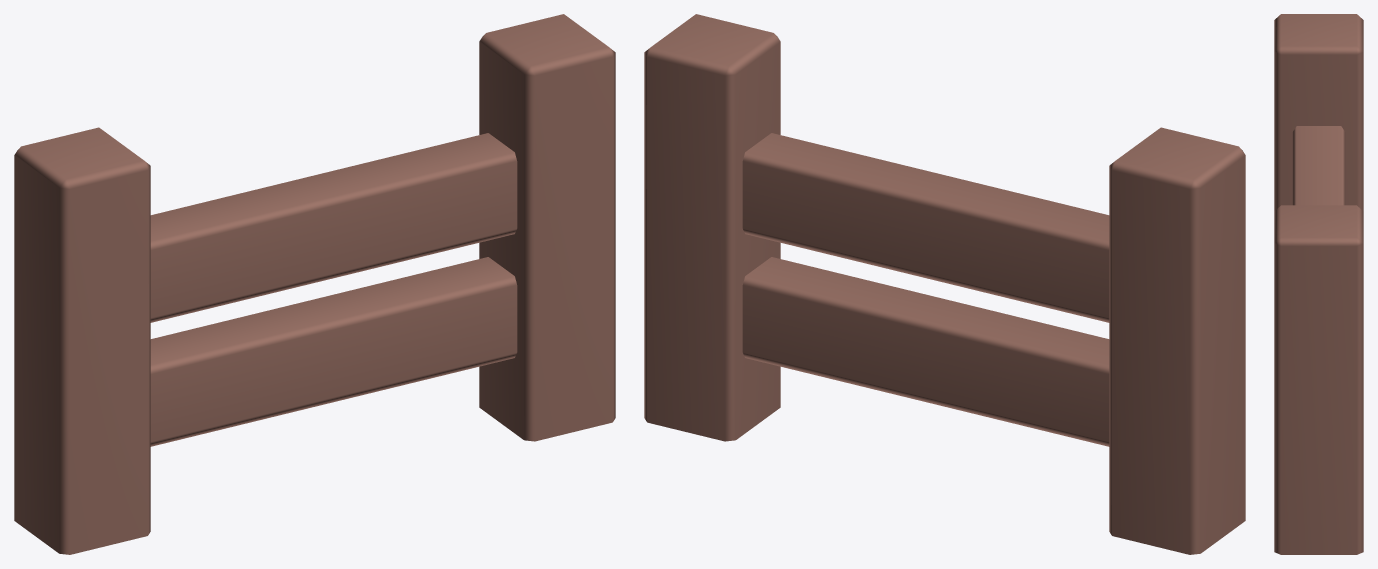
Rendered from Farm_6_Fence_1.glb.
The picture shows the model from 3 angles, left to right: view 1: azimuth 30°, elevation 25°; view 2: azimuth 150°, elevation 25°; view 3: azimuth 270°, elevation 25°; orthographic projection. The views are drawn at different scales.
Visible parts, largest first — view 1: Farm_6_Fence_1; view 2: Farm_6_Fence_1; view 3: Farm_6_Fence_1.
Part boxes in pixels (<box>): Farm_6_Fence_1: <box>14,14,615,554</box>; Farm_6_Fence_1: <box>644,14,1245,554</box>; Farm_6_Fence_1: <box>1274,14,1363,554</box>.
Bounding box in the file's own units: 2.32 × 1.49 × 0.3822.
1 material, 1 textured.
